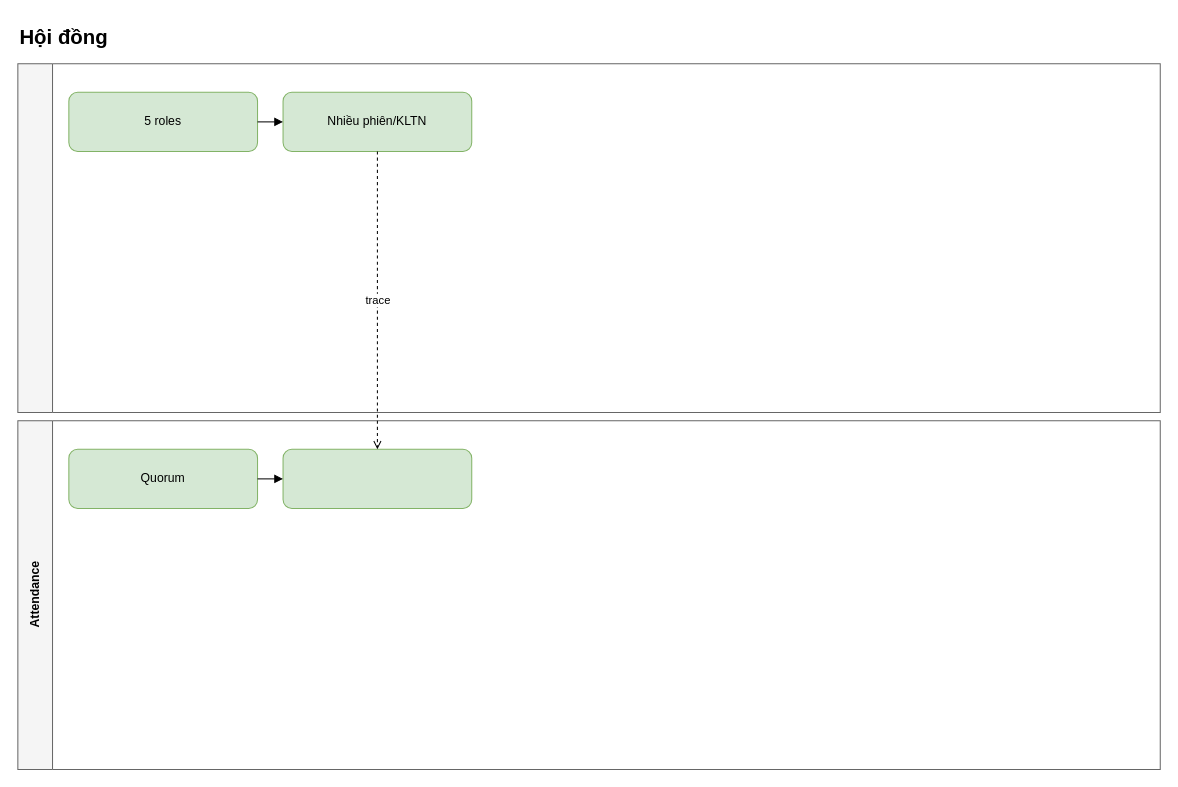
This 1178x787 diagram has some shape labels left out. The box of each missing label's shape, as (x1, y1, x2, y2) in pixels:
Decision: (17, 63, 1160, 413)
Mở/hoãn phiên: (282, 448, 472, 508)
